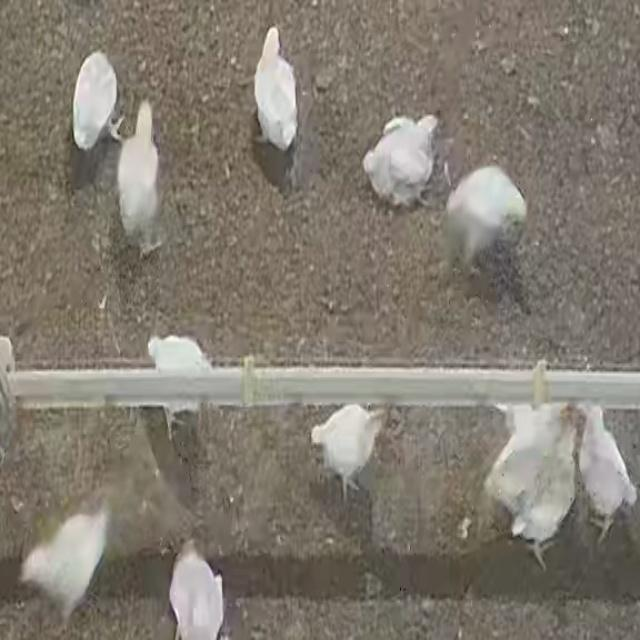chicken: (482, 400, 572, 566), (18, 496, 112, 626), (573, 405, 638, 544), (445, 163, 524, 264), (112, 96, 158, 251), (310, 404, 385, 498), (359, 115, 434, 202), (251, 26, 297, 151), (168, 539, 224, 640), (147, 335, 214, 417), (73, 53, 119, 153)
